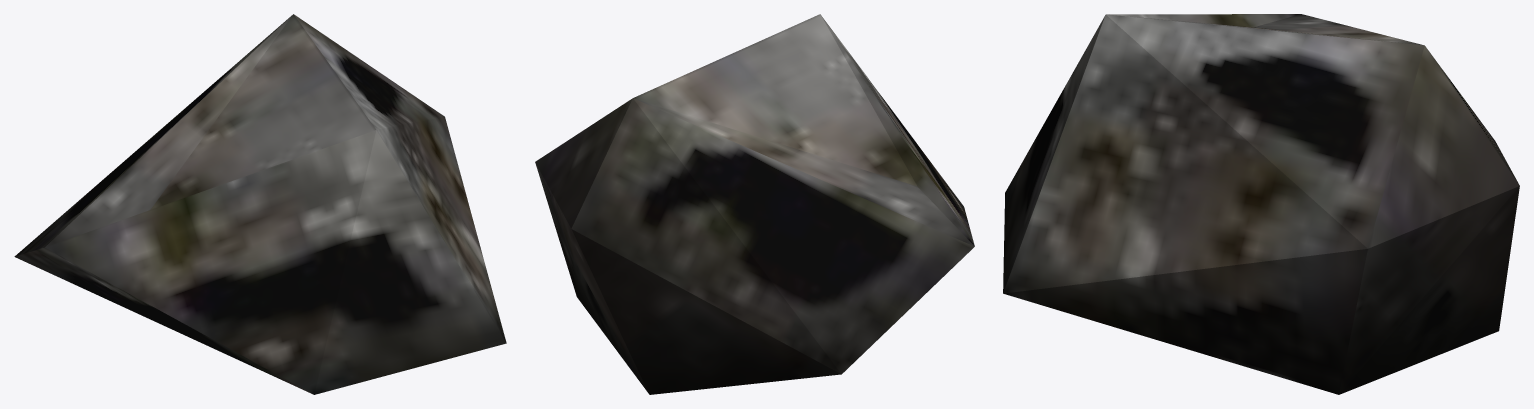
File: ga3_rock_lod2.glb
3 renders of one model, left to right at view 1: azimuth 30°, elevation 25°; view 2: azimuth 150°, elevation 25°; view 3: azimuth 270°, elevation 25°, orthographic. The views are drawn at different scales.
Visible parts, largest first — view 1: ga3_rock_lod2; view 2: ga3_rock_lod2; view 3: ga3_rock_lod2.
Boxes of the visible parts, x1,y1,x2,y2 form: ga3_rock_lod2: [14, 14, 506, 394]; ga3_rock_lod2: [535, 14, 974, 394]; ga3_rock_lod2: [1003, 14, 1519, 394].
Bounding box in the file's own units: 1.05 × 0.6408 × 0.9571.
1 material, 1 textured.
